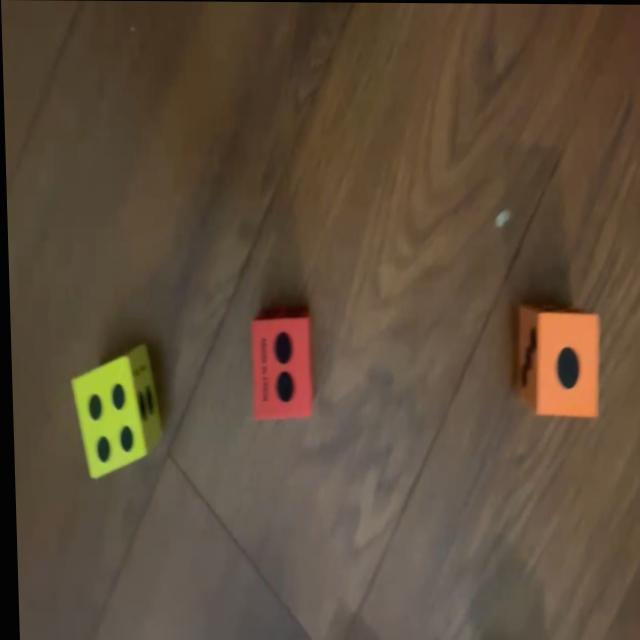cube: (246, 311, 313, 423)
